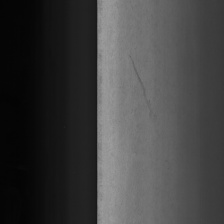water_spot: (128, 51, 157, 121)
